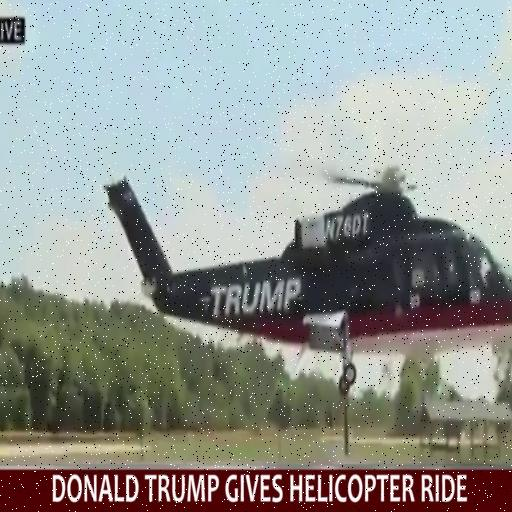helicopter: (77, 87, 512, 452)
